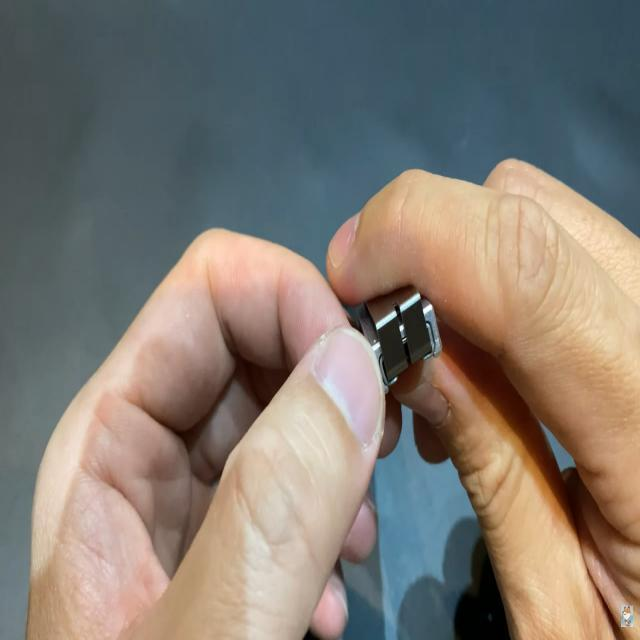cutter: (47, 148, 640, 640)
